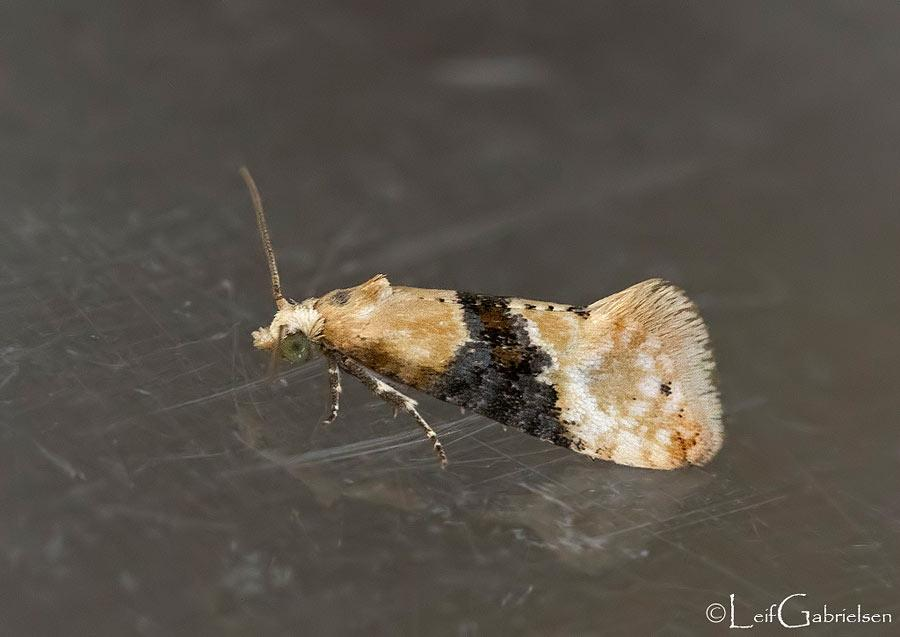Eupoecilia Ambiguella: (234, 163, 727, 474)
